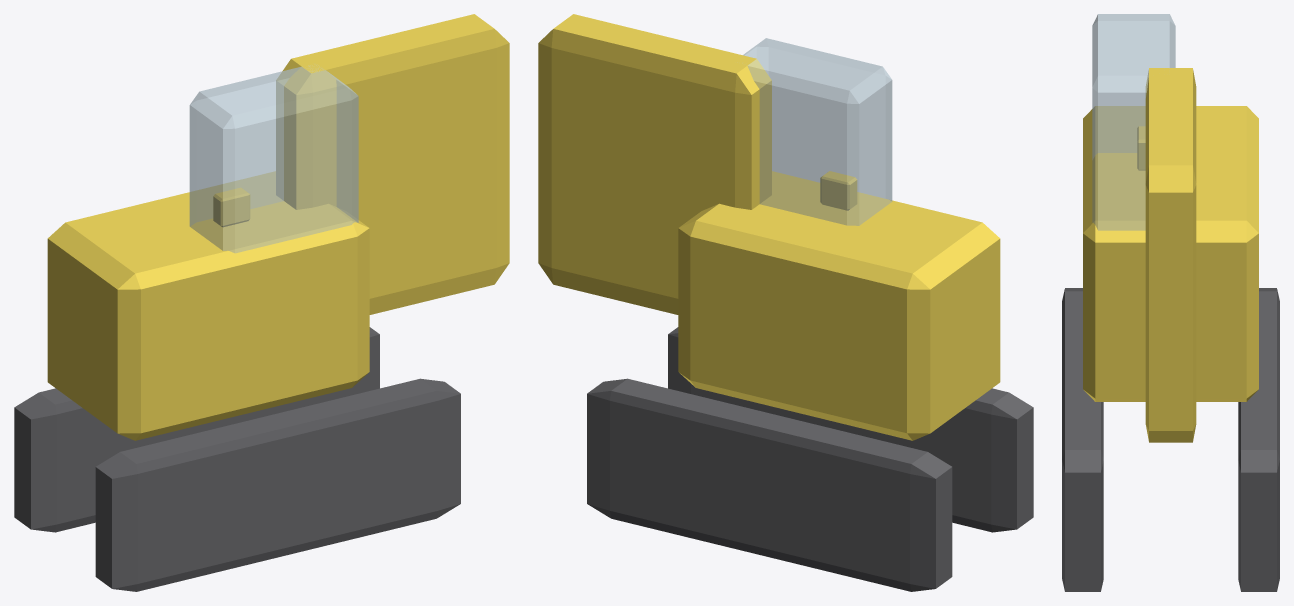
File: b07_lattice_boom_crawler_crane.glb
The picture shows the model from 3 angles, left to right: view 1: azimuth 30°, elevation 25°; view 2: azimuth 150°, elevation 25°; view 3: azimuth 270°, elevation 25°; orthographic projection. The views are drawn at different scales.
Parts seen in each view (by area): view 1: b07_lattice_boom_crawler_crane; view 2: b07_lattice_boom_crawler_crane; view 3: b07_lattice_boom_crawler_crane.
Boxes of the visible parts, x1,y1,x2,y2 form: b07_lattice_boom_crawler_crane: (14, 14, 509, 591); b07_lattice_boom_crawler_crane: (538, 14, 1033, 591); b07_lattice_boom_crawler_crane: (1062, 14, 1279, 591).
Size of the model in its own units: 7.76 by 7.44 by 3.1.
